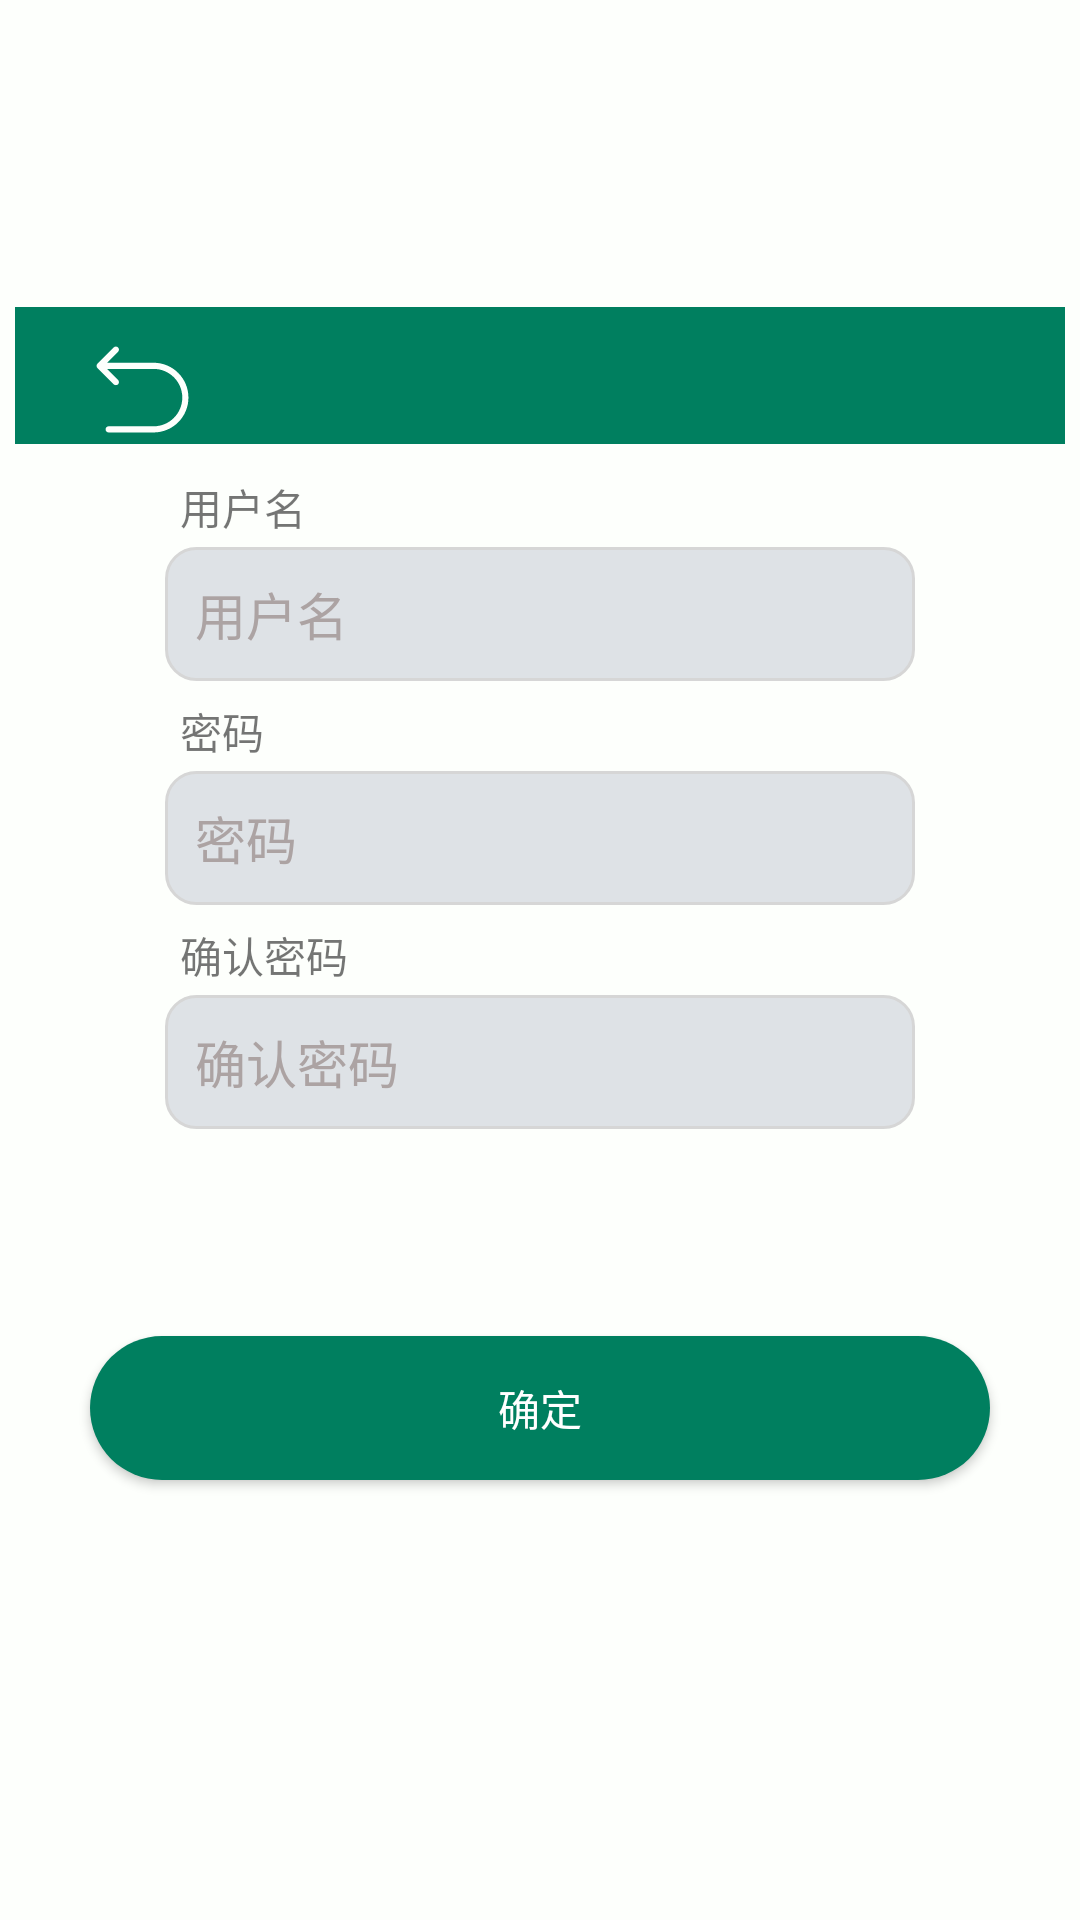

Screen size 1080w x 1920h. Icon name, then its box in pixels as (x1,y1,x2,y2):
back: (96,346,189,433)
